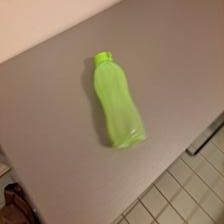bottle: (86, 50, 150, 148)
